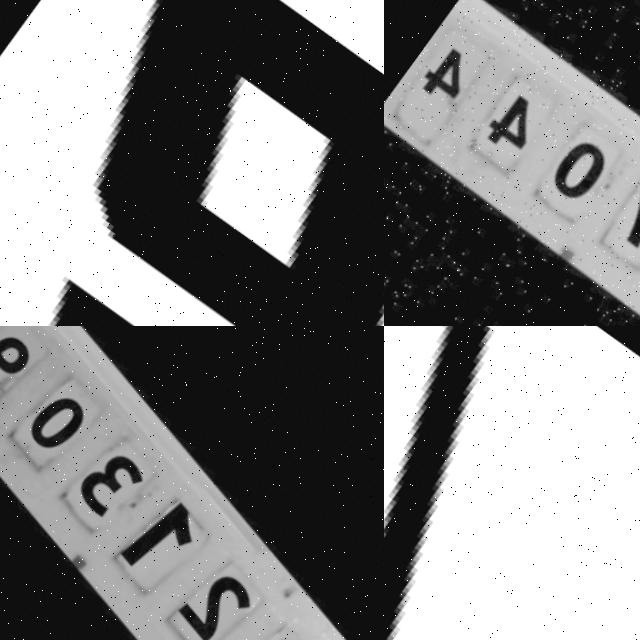0: (514, 97, 640, 240), (5, 365, 114, 479)
1: (108, 482, 225, 605)
2: (161, 546, 276, 640)
3: (55, 421, 169, 543)
4: (452, 54, 584, 190), (391, 9, 515, 138)
7: (579, 142, 640, 288)
8: (218, 608, 336, 640)
9: (0, 326, 57, 413)
E: (92, 0, 384, 326)
L: (384, 326, 632, 640)
